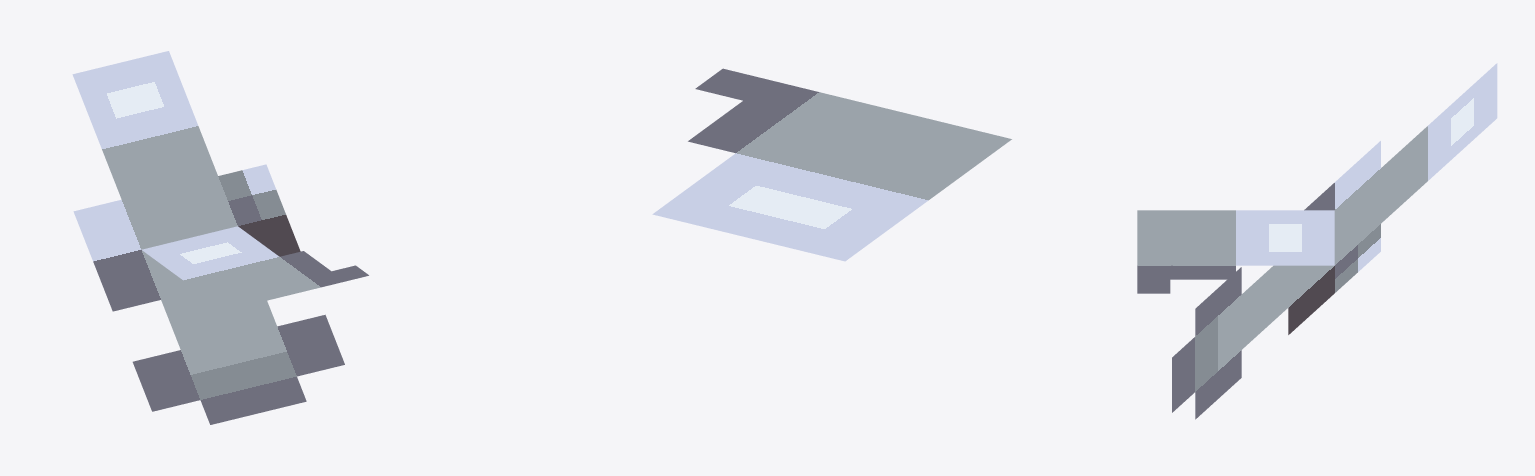
The picture shows the model from 3 angles, left to right: view 1: azimuth 30°, elevation 25°; view 2: azimuth 150°, elevation 25°; view 3: azimuth 270°, elevation 25°; orthographic projection. The views are drawn at different scales.
Size of the model in its own units: 0.5 by 0.707 by 0.7285.
Materials: 1 (1 with a texture image).
